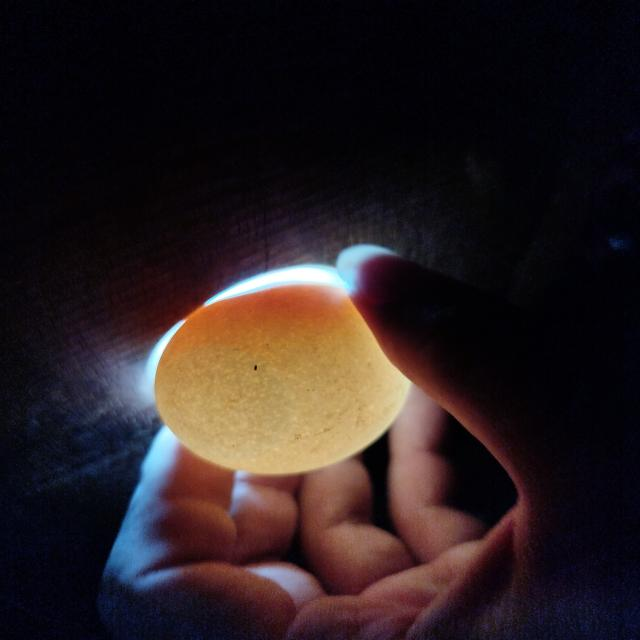Gema Quebrada: (163, 285, 347, 355)
